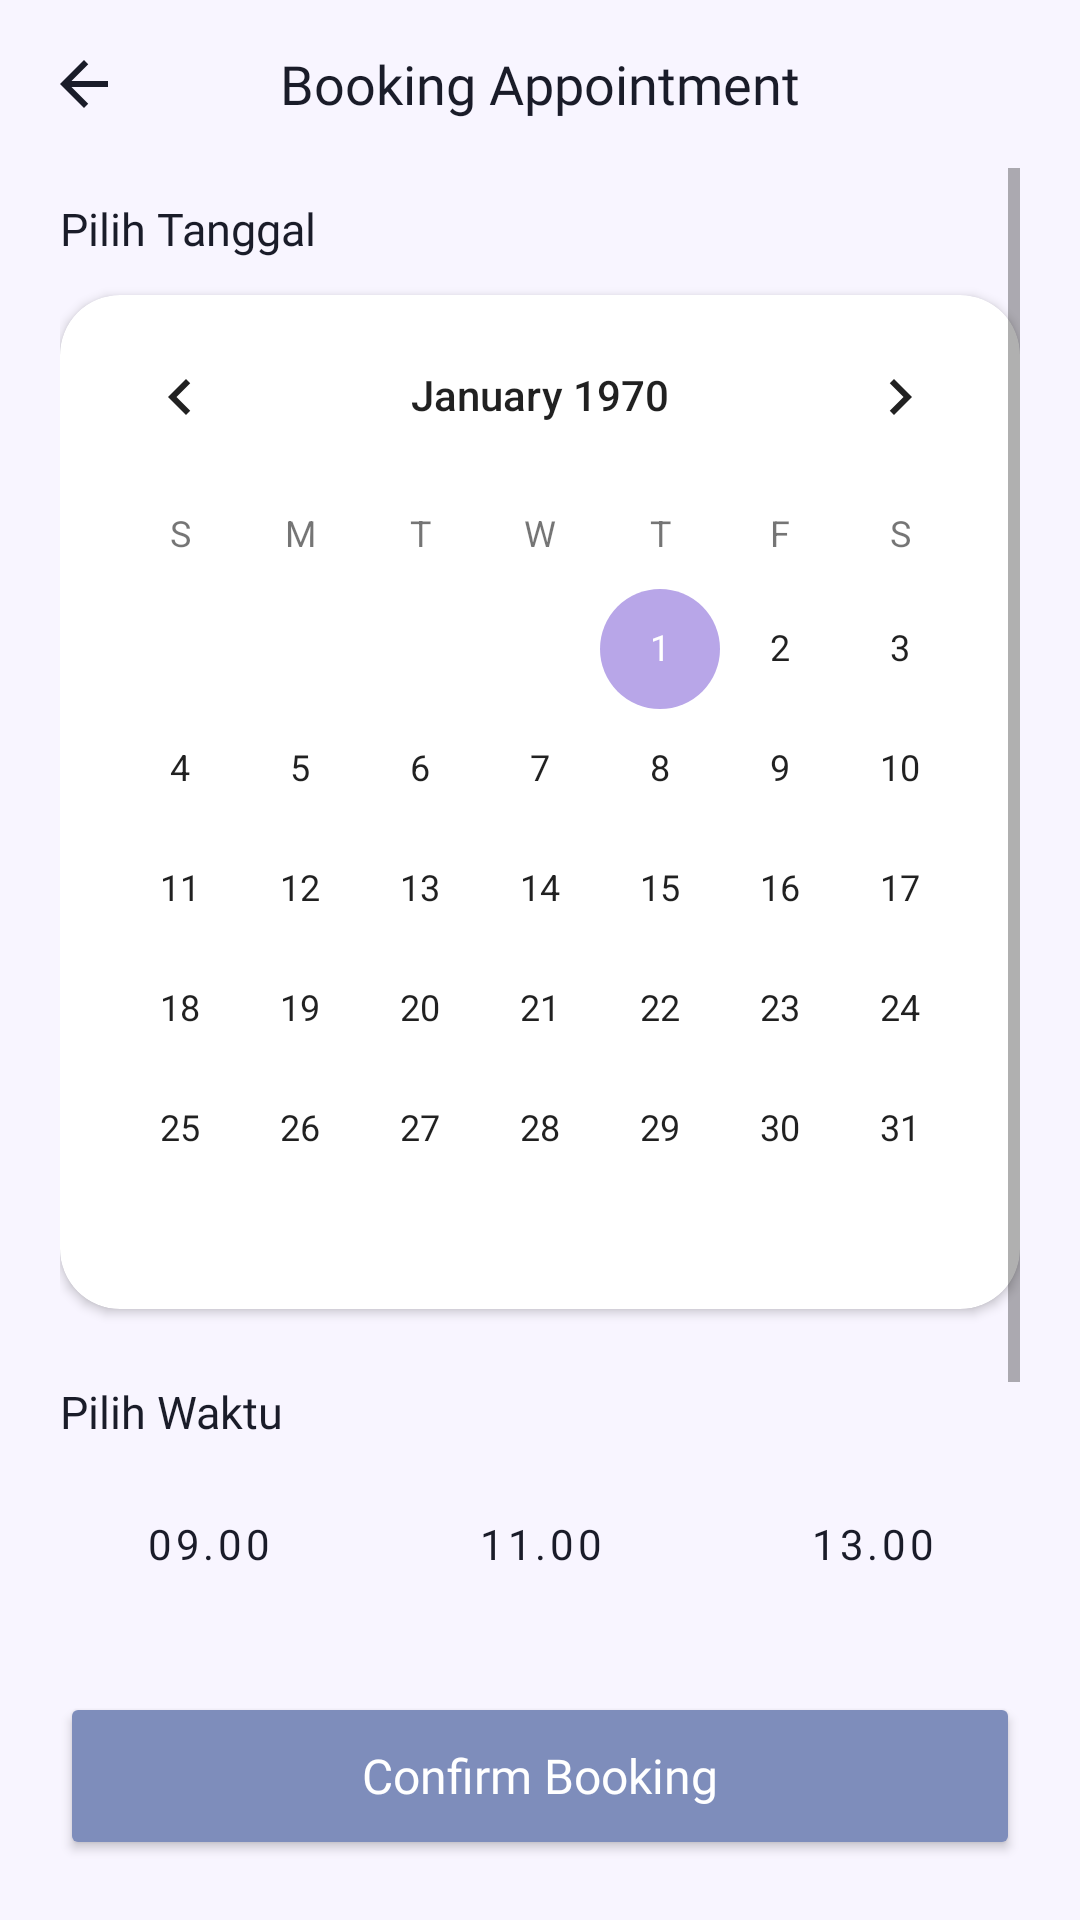

Icon bounding boxes for this 1080x1920 phone screenshot, format (left=x1, top=y1, right=x2, bottom=y2):
back: (left=60, top=60, right=108, bottom=108)
